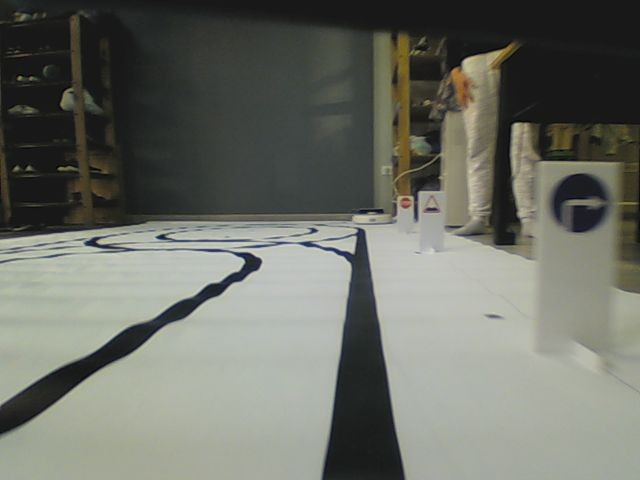Nerov: (421, 194, 440, 214)
Right: (549, 170, 611, 234)
